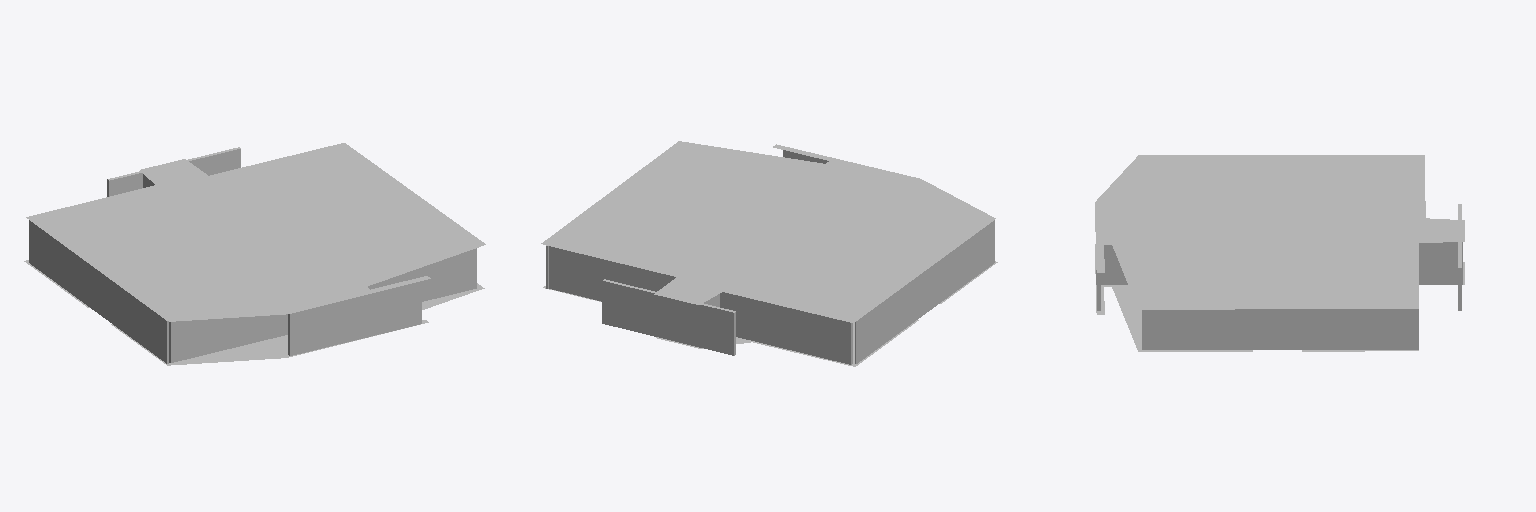
Rendered from 1-2_vis.obj.
The picture shows the model from 3 angles: view 1: azimuth 30°, elevation 25°; view 2: azimuth 150°, elevation 25°; view 3: azimuth 270°, elevation 25°; orthographic projection.
Parts seen in each view (by area): view 1: Plane.001, Cube.002_Cube.004, Cube.010_Cube.014, Cube.005_Cube.009, Cube.004_Cube.008, Plane, Cube.011_Cube.015; view 2: Plane.001, Cube.002_Cube.004, Cube.011_Cube.015, Cube.007_Cube.011, Cube.006_Cube.010, Plane; view 3: Plane.001, Cube.003_Cube.007, Cube.009_Cube.013, Plane, Cube.001_Cube.003.
Part boxes in pixels (bbox=[...]): Plane.001: bbox=[26, 143, 485, 321]; Cube.002_Cube.004: bbox=[29, 220, 168, 363]; Cube.010_Cube.014: bbox=[288, 281, 421, 355]; Cube.005_Cube.009: bbox=[169, 314, 287, 362]; Cube.004_Cube.008: bbox=[368, 248, 476, 301]; Plane: bbox=[24, 260, 484, 365]; Cube.011_Cube.015: bbox=[107, 147, 240, 196]; Plane.001: bbox=[541, 141, 995, 322]; Cube.002_Cube.004: bbox=[855, 220, 994, 363]; Cube.011_Cube.015: bbox=[602, 279, 735, 355]; Cube.007_Cube.011: bbox=[720, 292, 852, 364]; Cube.006_Cube.010: bbox=[549, 246, 675, 301]; Plane: bbox=[543, 261, 997, 366]; Plane.001: bbox=[1095, 155, 1464, 309]; Cube.003_Cube.007: bbox=[1142, 309, 1418, 349]; Cube.009_Cube.013: bbox=[1419, 242, 1462, 284]; Plane: bbox=[1095, 244, 1464, 351]; Cube.001_Cube.003: bbox=[1096, 245, 1127, 284].
Bounding box in the file's own units: 49.7 × 7.18 × 49.9.